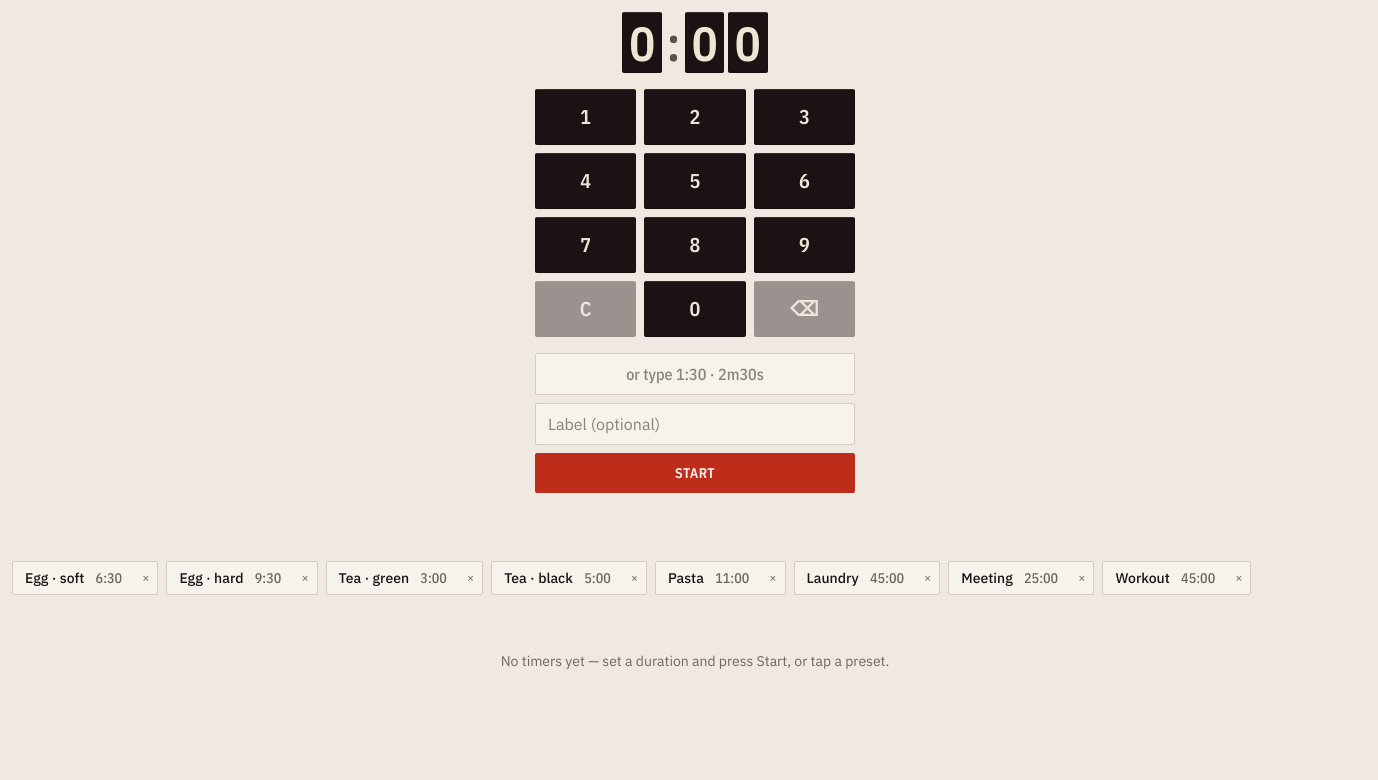
Scenario: CountdownView › rejects input that is not a duration
Type "later" into the field named "Duration" at (695, 374), box [535,353,855,395]
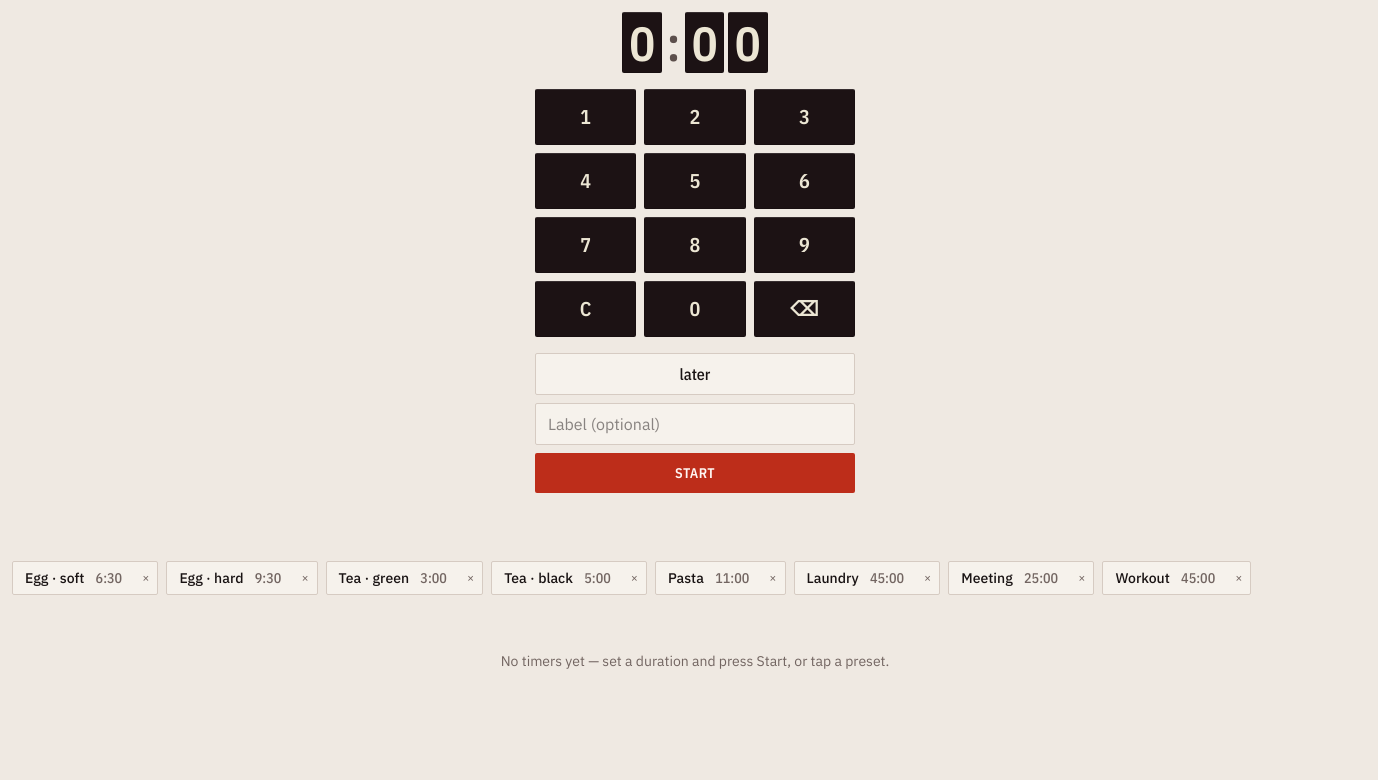
Submit the form named "Start a timer"
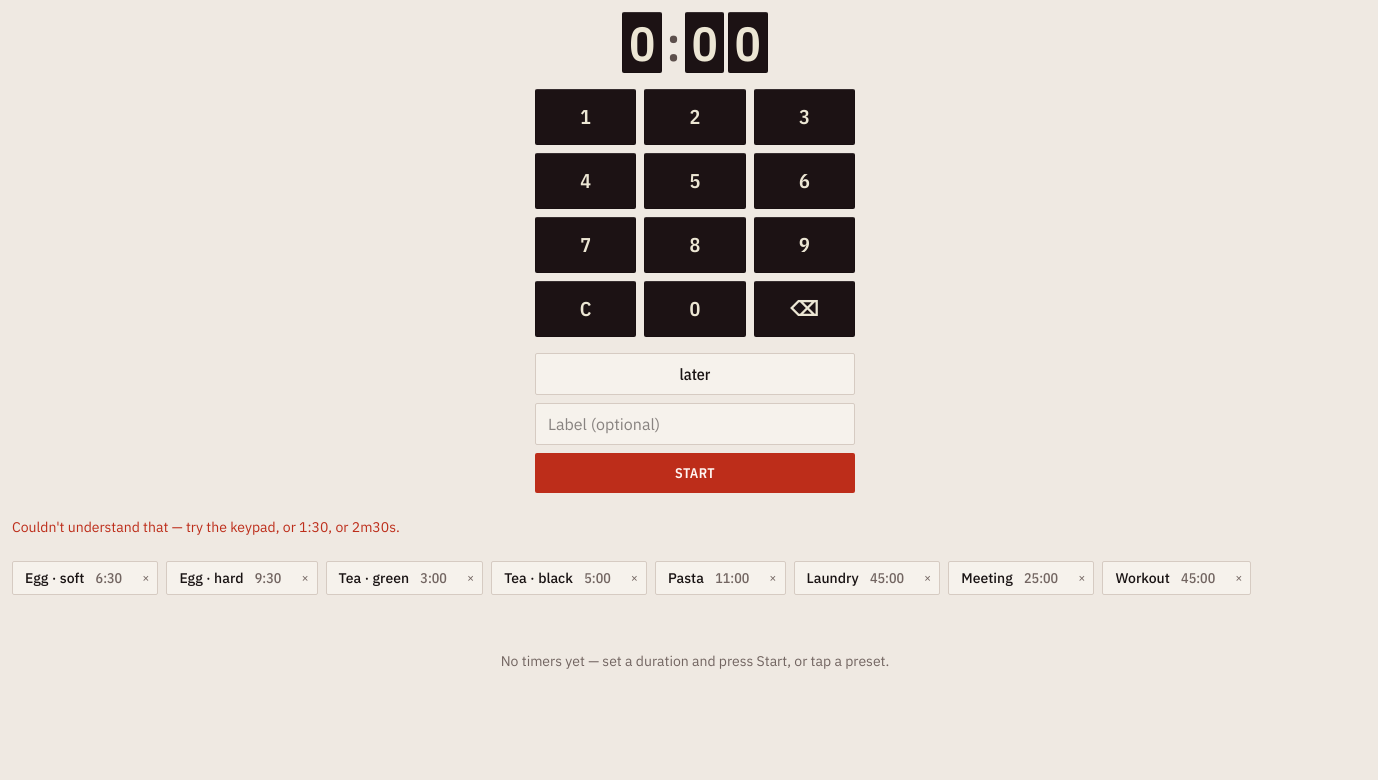
Expected: the text "Couldn't understand" is shown, [12,518,400,536]
